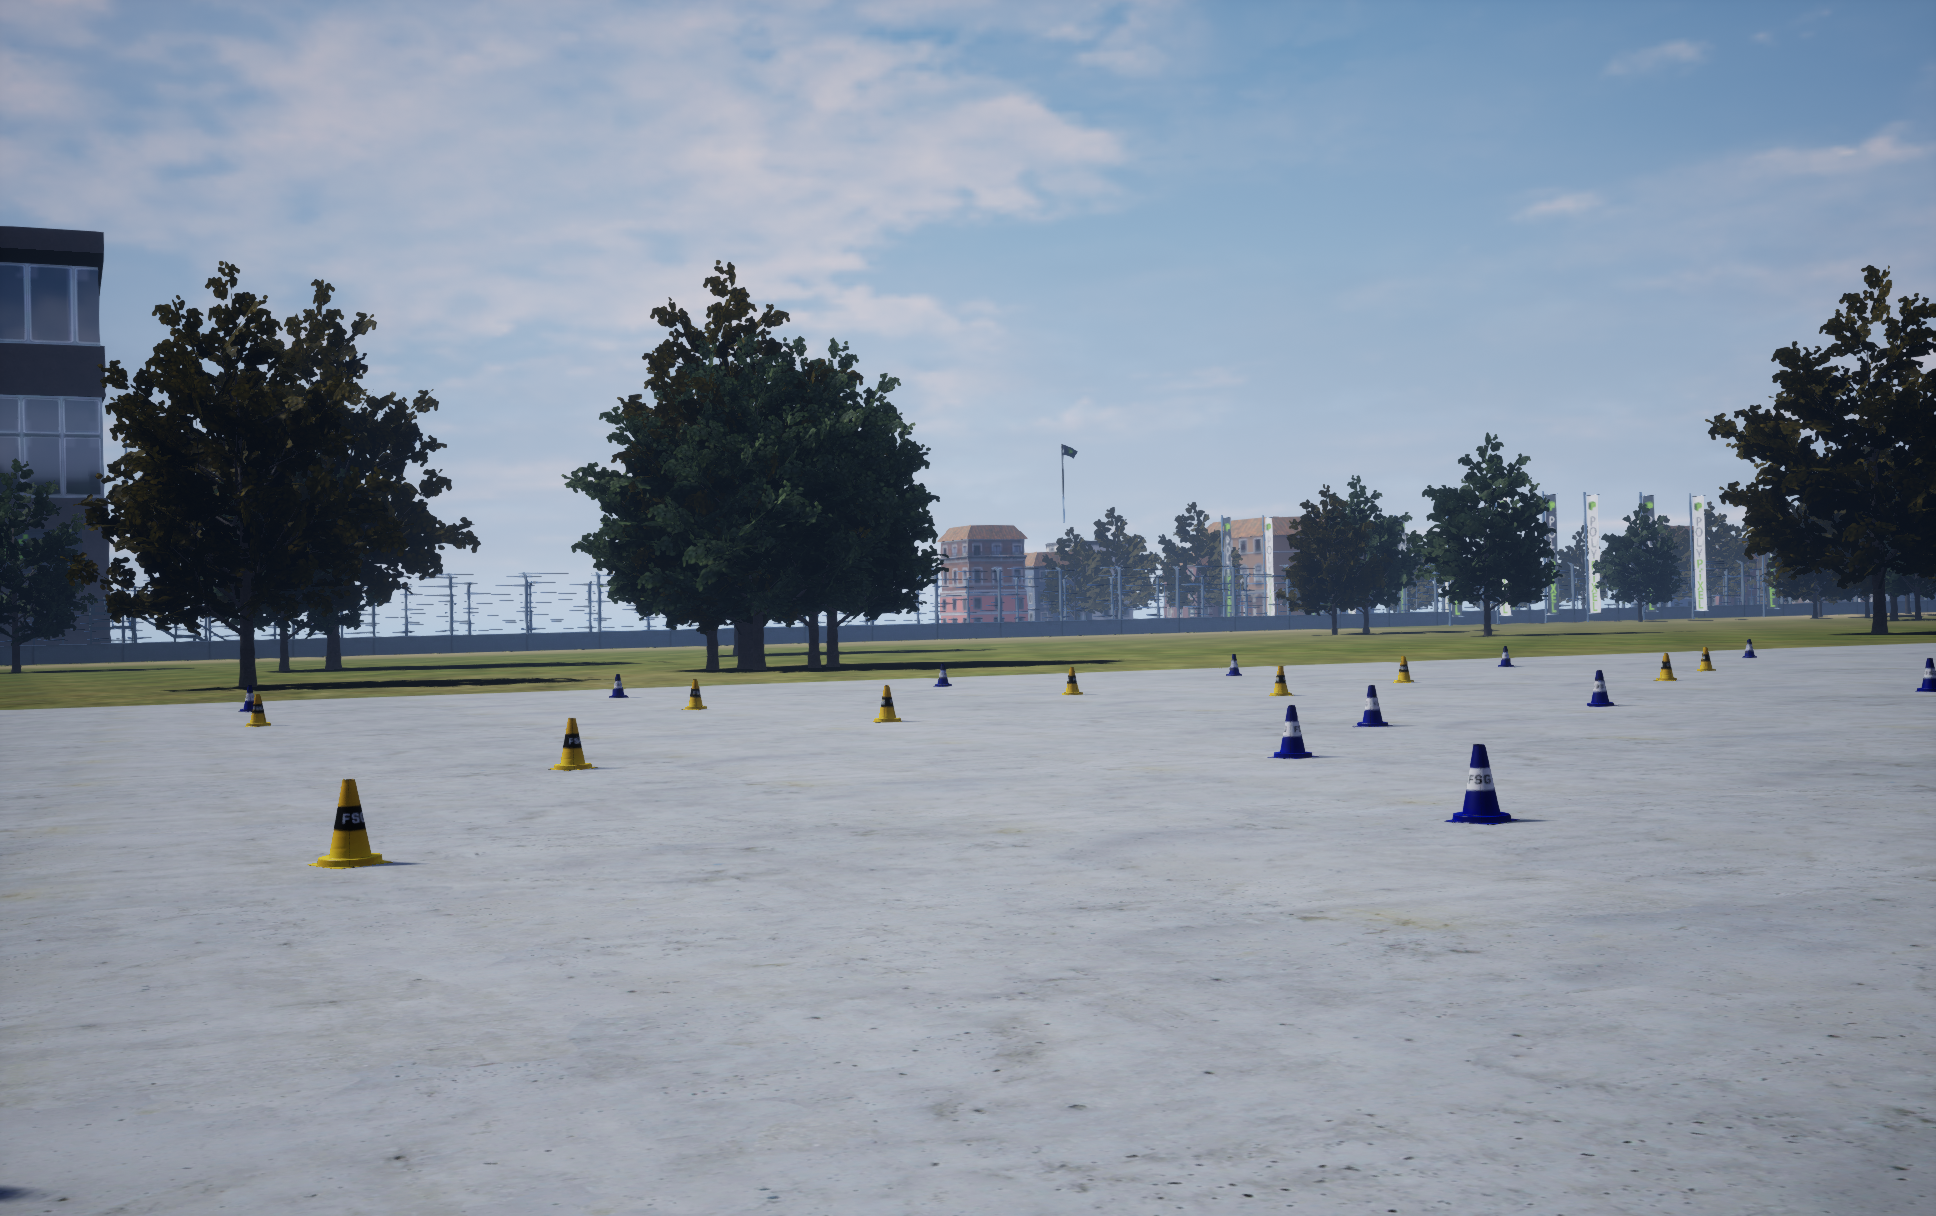blue: (307, 779, 392, 869), (548, 719, 597, 771), (873, 685, 901, 721), (245, 693, 270, 726), (681, 679, 706, 709), (1269, 665, 1293, 695), (1653, 653, 1675, 679), (1392, 656, 1413, 682), (1062, 667, 1081, 693), (1696, 647, 1715, 671)
yellow: (1444, 744, 1519, 824), (1266, 705, 1318, 758), (1352, 685, 1392, 726), (1587, 670, 1617, 706), (1915, 658, 1935, 691), (609, 674, 628, 698), (933, 663, 951, 686), (238, 685, 254, 712), (1226, 654, 1241, 675), (1498, 646, 1513, 665), (1743, 639, 1757, 657)
